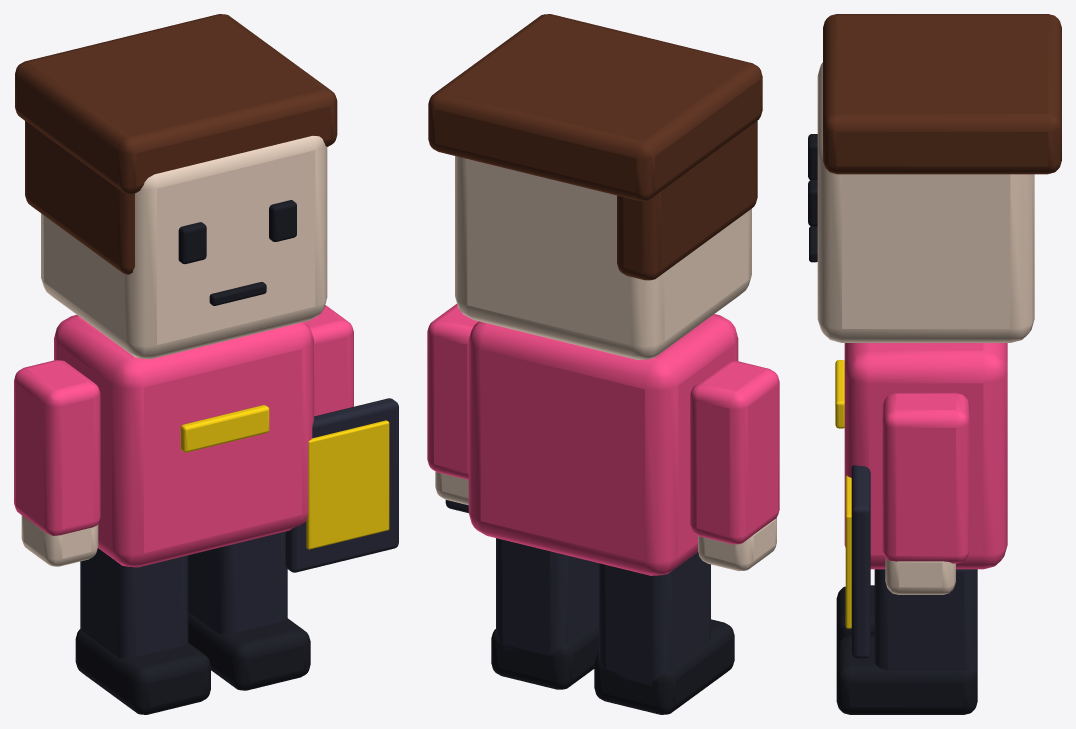
Rendered from recruiter.glb.
The picture shows the model from 3 angles, left to right: view 1: azimuth 30°, elevation 25°; view 2: azimuth 150°, elevation 25°; view 3: azimuth 270°, elevation 25°; orthographic projection. The views are drawn at different scales.
Visible parts, largest first — view 1: Jacket, Face, Hair, Arm_L_sleeve, Leg_L_trouser, Screen, HairSide, Leg_R_trouser, Leg_L_shoe, Leg_R_shoe, Tablet, Arm_R_sleeve (+5 smaller); view 2: Jacket, Hair, Face, Arm_L_sleeve, HairSide, Leg_L_trouser, Leg_R_trouser, Arm_R_sleeve, Leg_L_shoe, Leg_R_shoe, Arm_L_hand, Arm_R_hand; view 3: Hair, Face, Jacket, Arm_R_sleeve, Leg_R_trouser, Leg_R_shoe, Tablet, Arm_R_hand, Screen, Leg_L_shoe, ChestBadge, Eye.001 (+1 smaller).
Boxes of the visible parts, x1,y1,x2,y2 form: Jacket: (54,315,313,567); Face: (41,135,327,359); Hair: (15,14,337,194); Arm_L_sleeve: (14,360,100,535); Leg_L_trouser: (80,548,188,658); Screen: (306,420,389,549); HairSide: (25,121,134,274); Leg_R_trouser: (188,531,287,634); Leg_L_shoe: (75,629,210,714); Leg_R_shoe: (188,612,310,690); Tablet: (285,398,398,572); Arm_R_sleeve: (304,305,353,416); Jacket: (468,314,738,575); Hair: (428,14,762,200); Face: (455,156,751,359); Arm_L_sleeve: (690,361,779,544); HairSide: (617,121,757,280); Leg_L_trouser: (599,552,710,685); Leg_R_trouser: (496,538,598,656); Arm_R_sleeve: (427,304,478,479); Leg_L_shoe: (594,619,734,714); Leg_R_shoe: (491,622,598,689); Arm_L_hand: (698,517,776,571); Arm_R_hand: (435,471,468,505); Hair: (823,14,1061,174); Face: (817,62,1034,342); Jacket: (844,343,1007,569); Arm_R_sleeve: (882,392,969,563); Leg_R_trouser: (874,569,977,673); Leg_R_shoe: (836,635,977,714); Tablet: (851,465,870,658); Arm_R_hand: (885,558,955,594); Screen: (845,475,851,628); Leg_L_shoe: (836,585,874,647); ChestBadge: (835,360,844,428); Eye.001: (808,179,817,226).
Bounding box in the file's own units: 0.74 × 1.24 × 0.4675.
